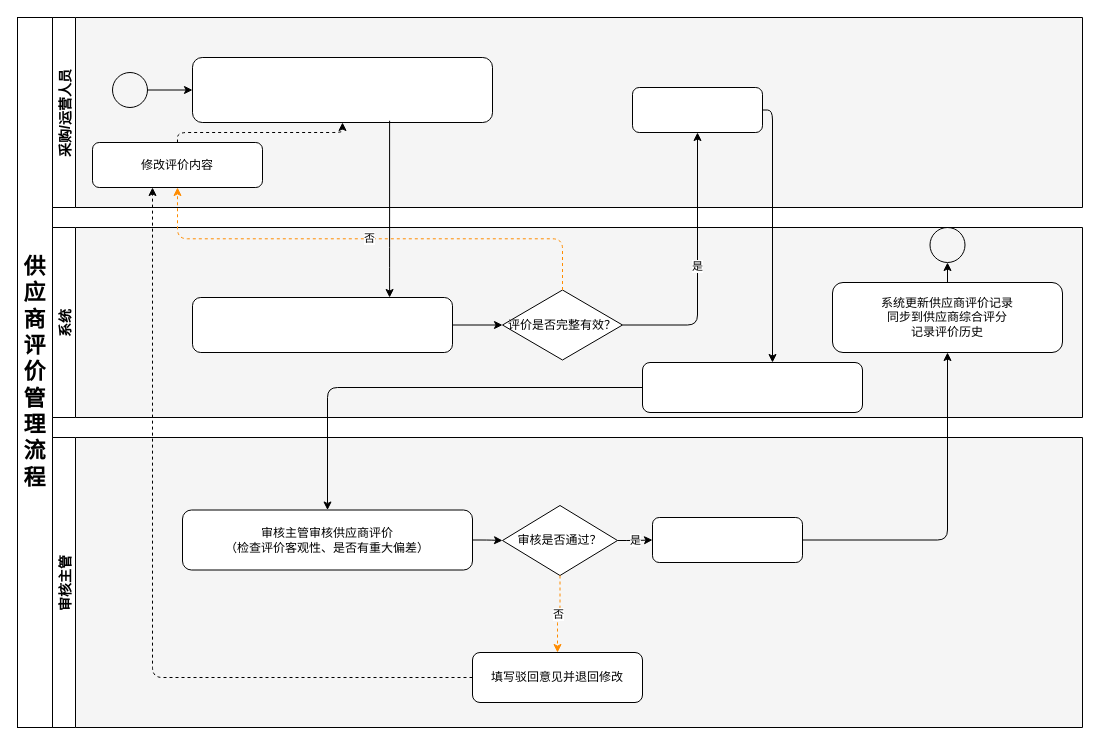
Image size: 1100x745. Some labels were removed from this diagram. The centre of each missing label's shape, as x and y in pixels:
提交供应商评价: (697,109)
确认审核通过: (727,539)
系统自动计算评价分数 并更新供应商综合评分: (322,324)
系统记录评价日志 并通知审核主管: (752,387)
采购/运营人员填写供应商评价 （交货及时性、质量合格率、配合度、服务态度、价格合理性等）: (342,89)
